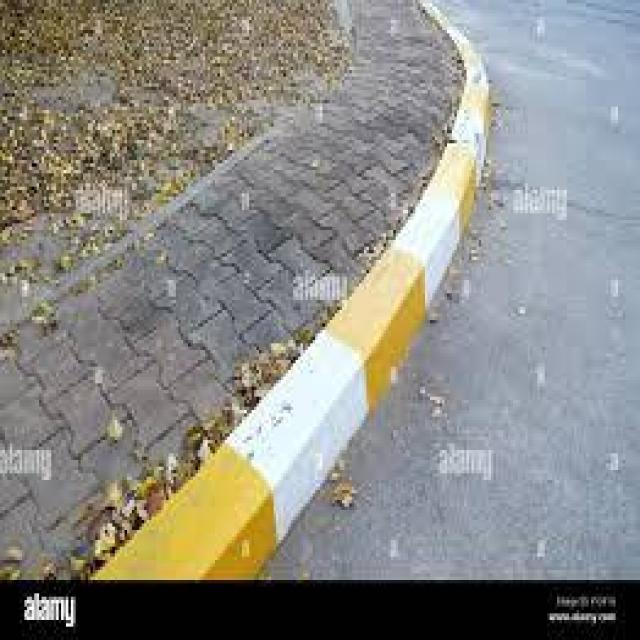curb: (107, 428, 382, 578), (273, 255, 490, 419), (386, 124, 509, 265), (410, 1, 507, 132)
